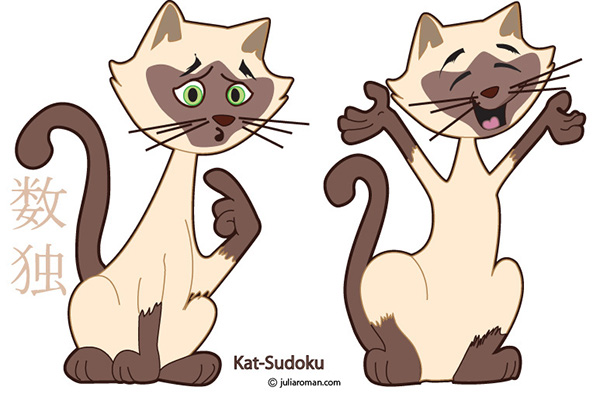cat: (9, 1, 307, 394), (330, 1, 600, 394)
